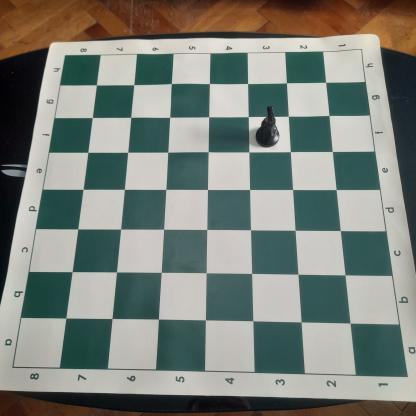black-knight: (255, 105, 280, 148)
